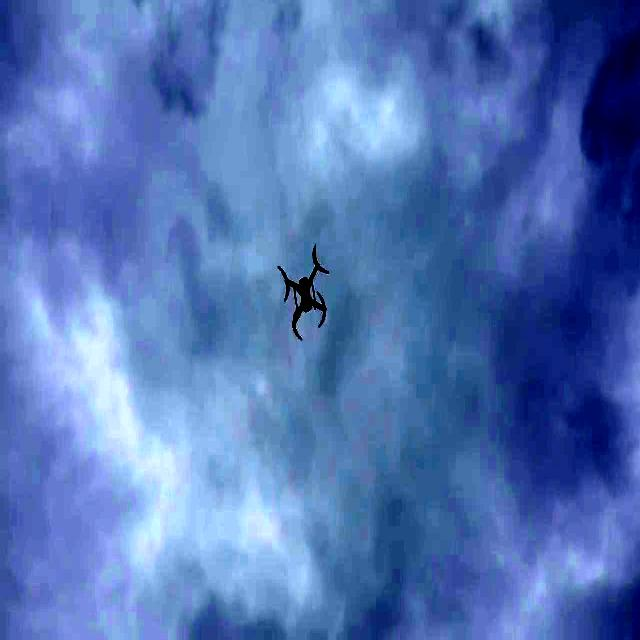drone: (277, 241, 331, 342)
